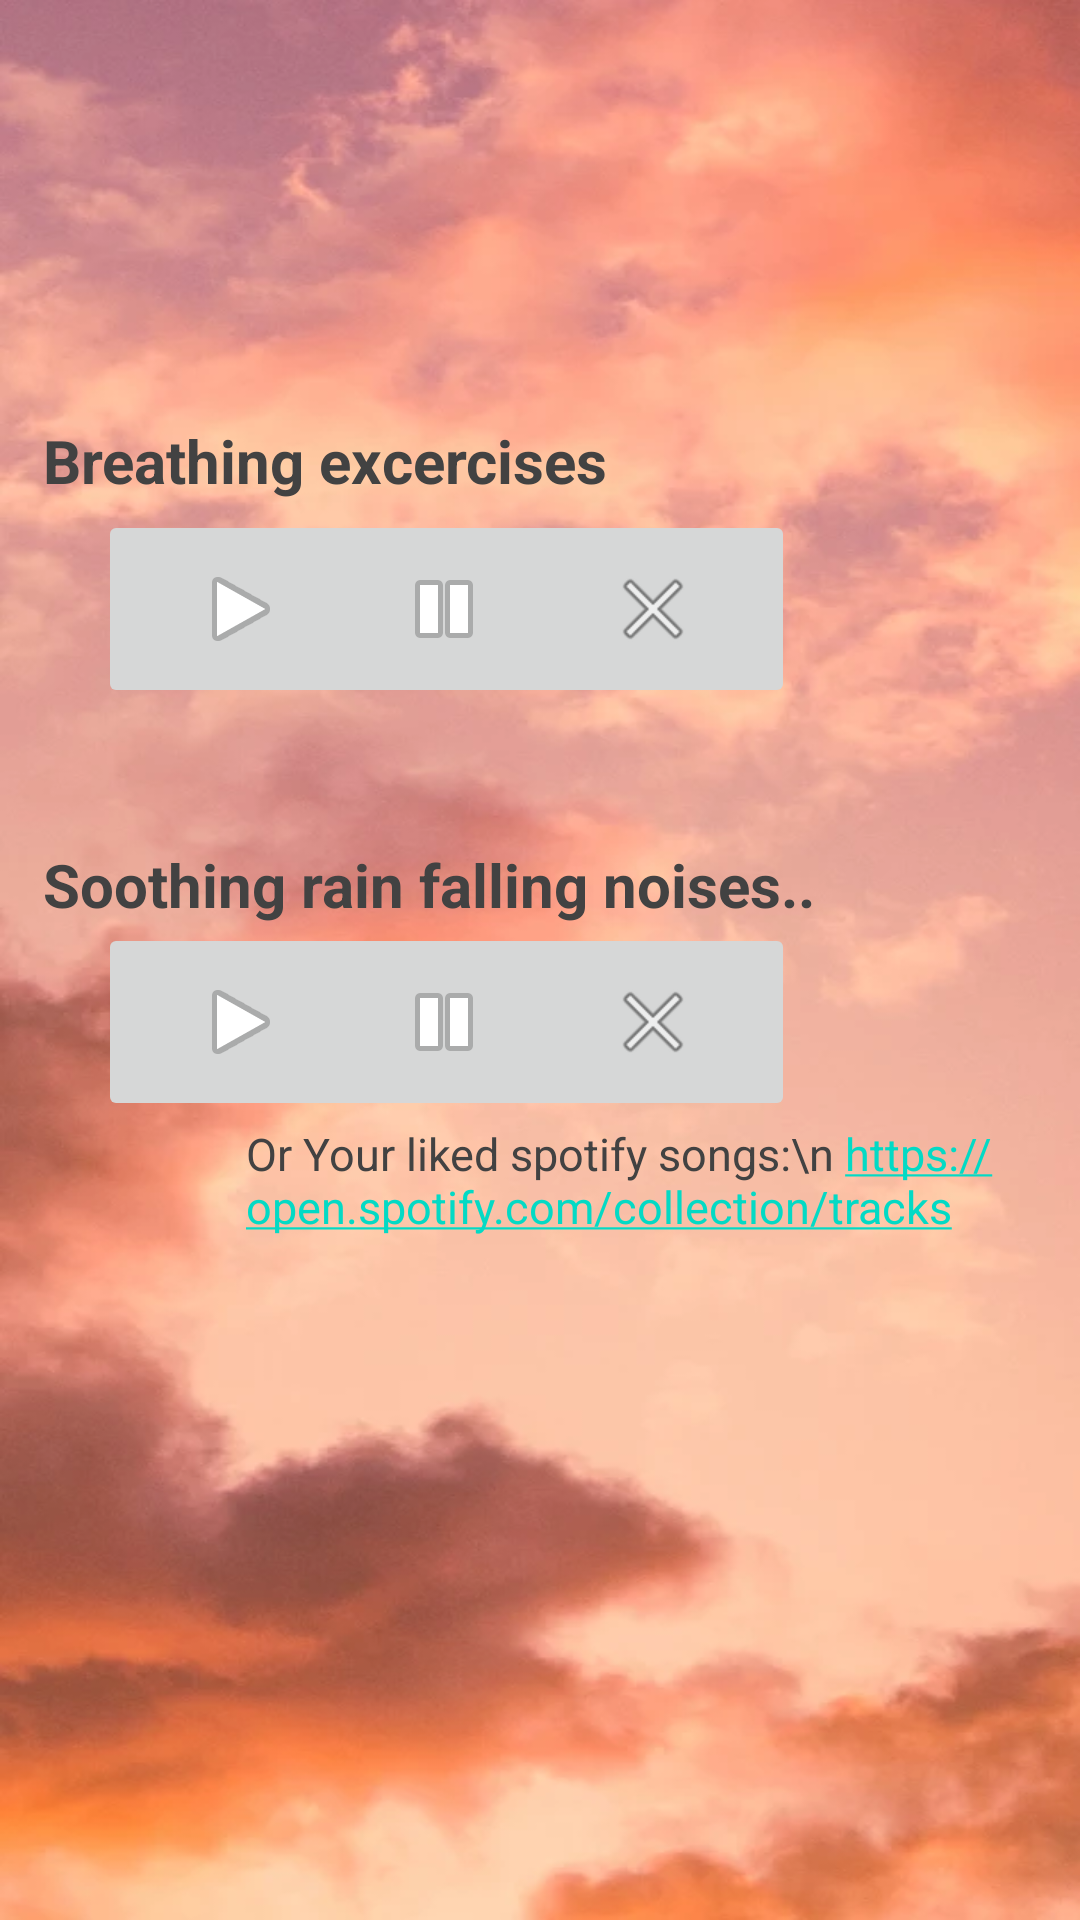

Icons on this 1080×1920 Android screen, each with the point to tap as point (x, y):
close clear cancel: point (652, 609), point (652, 1022)
pause: point (443, 609), point (443, 1022)
play: point (240, 609), point (240, 1022)
